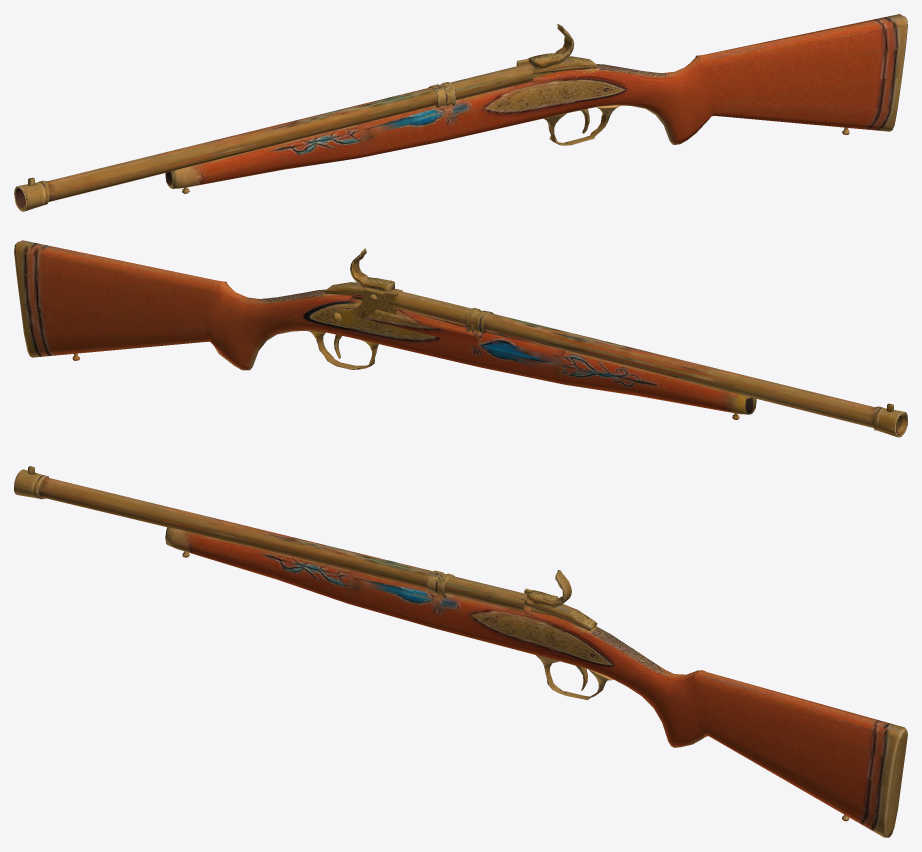
Rendered from gun-desert.glb.
The picture shows the model from 3 angles, top to bottom: view 1: azimuth 30°, elevation 25°; view 2: azimuth 150°, elevation 25°; view 3: azimuth 330°, elevation 25°; orthographic projection.
Bounding box in the file's own units: 0.9575 × 0.1929 × 0.0323.
1 material, 1 textured.
